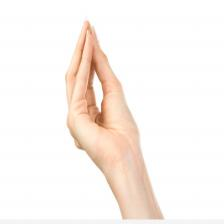five: (64, 18, 136, 159)
